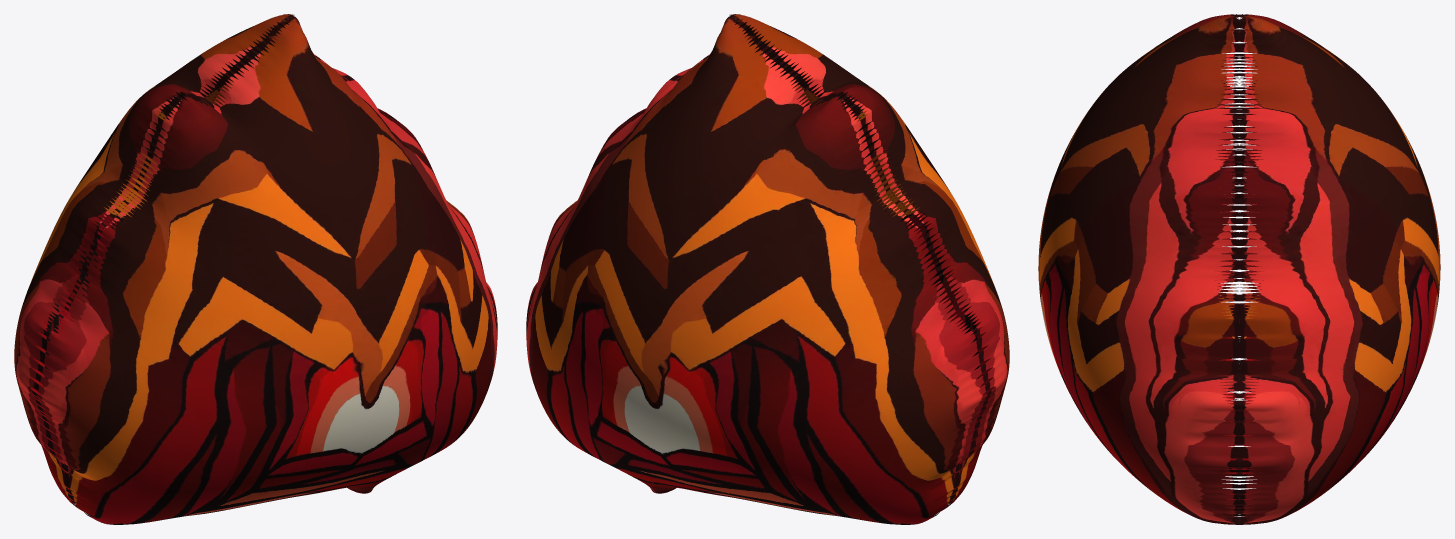
The model's file is north_tunnel.glb.
The picture shows the model from 3 angles, left to right: view 1: azimuth 30°, elevation 25°; view 2: azimuth 150°, elevation 25°; view 3: azimuth 270°, elevation 25°; orthographic projection.
Parts seen in each view (by area): view 1: north_tunnel; view 2: north_tunnel; view 3: north_tunnel.
Boxes of the visible parts, box(x1,y1,x2,y2) form: north_tunnel: box(14, 14, 497, 524); north_tunnel: box(526, 14, 1009, 524); north_tunnel: box(1038, 14, 1440, 524).
Size of the model in its own units: 0.9887 by 0.9756 by 0.7847.
1 material, 1 textured.
